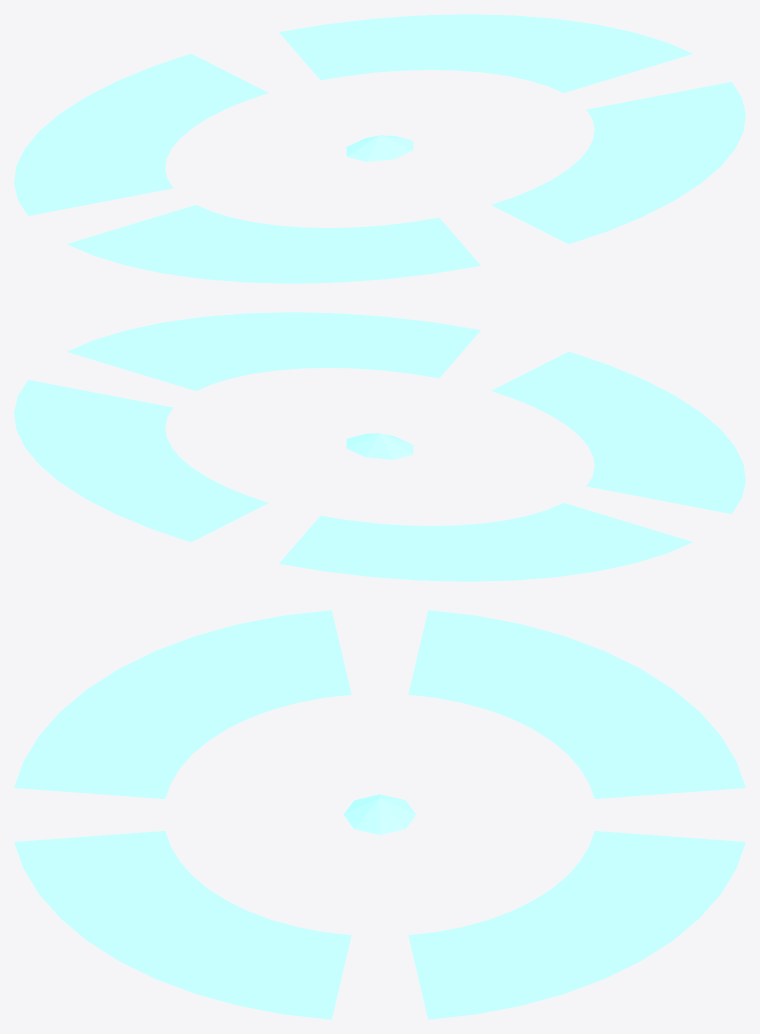
Rendered from reticle1.gltf.
3 renders of one model, top to bottom at view 1: azimuth 30°, elevation 25°; view 2: azimuth 150°, elevation 25°; view 3: azimuth 270°, elevation 25°, orthographic. The views are drawn at different scales.
Parts seen in each view (by area): view 1: Torus; view 2: Torus; view 3: Torus.
Part boxes in pixels (x1,y1,x2,y2): Torus: (14, 14, 745, 283); Torus: (14, 312, 745, 581); Torus: (14, 610, 745, 1019).
Bounding box in the file's own units: 0.7258 × 0.0141 × 0.548.
